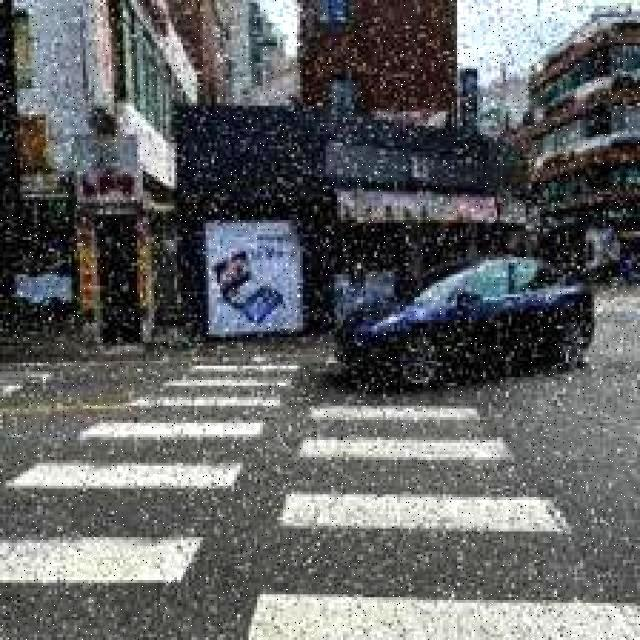crosswalk: (4, 335, 628, 639)
